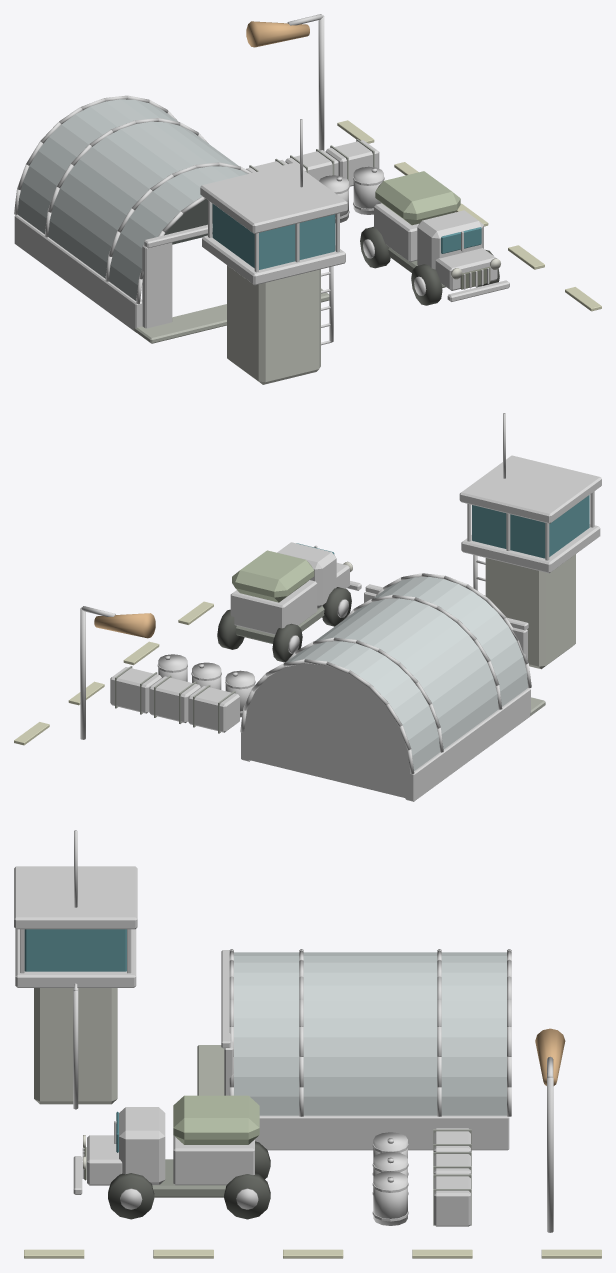
The model's file is runway.glb.
The picture shows the model from 3 angles, top to bottom: view 1: azimuth 30°, elevation 25°; view 2: azimuth 150°, elevation 25°; view 3: azimuth 270°, elevation 25°; orthographic projection. The views are drawn at different scales.
Parts seen in each view (by area): view 1: Hull, Turret; view 2: Hull, Turret; view 3: Hull, Turret.
Boxes of the visible parts, x1,y1,x2,y2 form: Hull: (14,95,601,384); Turret: (246,14,324,150); Hull: (14,413,601,801); Turret: (80,606,155,739); Hull: (14,830,601,1258); Turret: (535,1028,565,1232).
Bounding box in the file's own units: 3.42 × 2.1 × 4.09.
